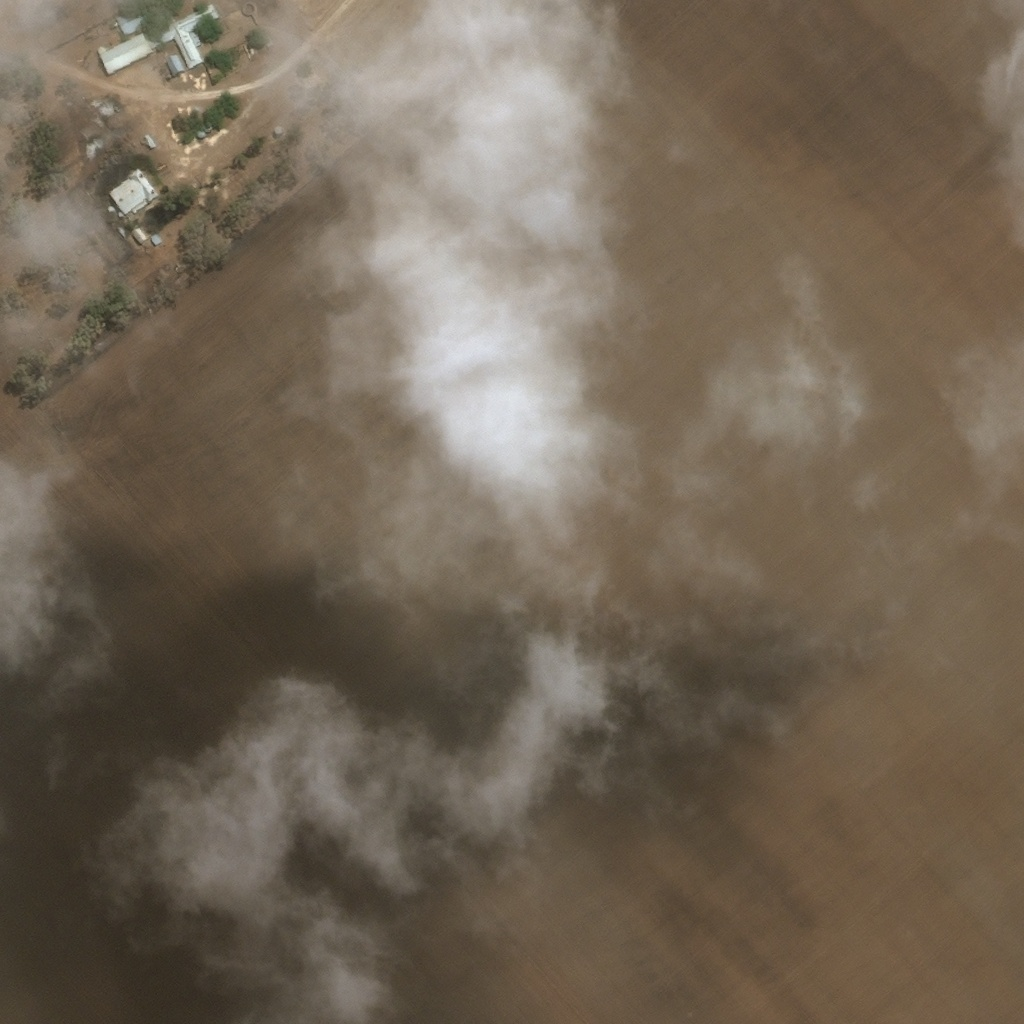0 no-damage: (153, 2, 219, 69), (96, 28, 159, 75), (108, 167, 159, 213), (114, 2, 155, 36), (165, 52, 185, 74), (132, 225, 147, 242), (242, 42, 254, 61), (261, 35, 273, 49), (149, 232, 161, 245), (196, 129, 206, 138), (203, 122, 213, 131), (274, 124, 284, 133), (108, 204, 115, 211), (118, 210, 124, 215)
